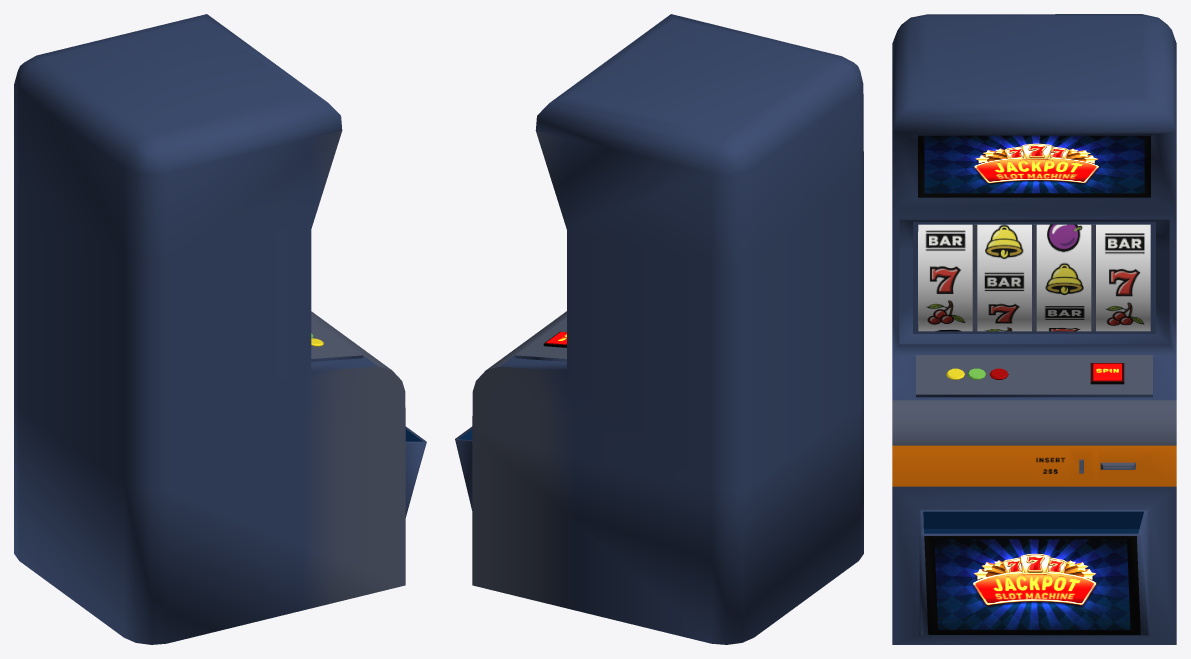
The model's file is bbJackpot.glb.
3 views of the same model, side by side, from view 1: azimuth 30°, elevation 25°; view 2: azimuth 150°, elevation 25°; view 3: azimuth 270°, elevation 25° (orthographic). The views are drawn at different scales.
Parts seen in each view (by area): view 1: slotMachine; view 2: slotMachine; view 3: slotMachine, figures.002, figures, figures.001, figures.003.
Boxes of the visible parts, bbox=[...] form: slotMachine: bbox=[14, 14, 426, 644]; slotMachine: bbox=[455, 14, 863, 644]; slotMachine: bbox=[892, 14, 1176, 644]; figures.002: bbox=[1036, 224, 1091, 331]; figures: bbox=[918, 224, 972, 331]; figures.001: bbox=[977, 224, 1031, 331]; figures.003: bbox=[1096, 224, 1150, 331].
Bounding box in the file's own units: 1.26 × 1.99 × 1.01.
Materials: 2 (2 with a texture image).
